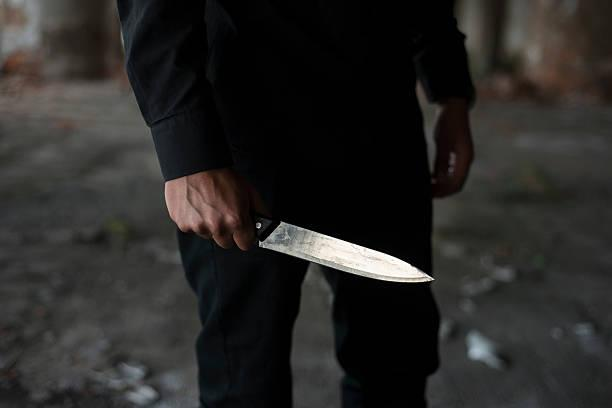Knife: (114, 0, 490, 408), (255, 206, 438, 285), (160, 163, 273, 255)
